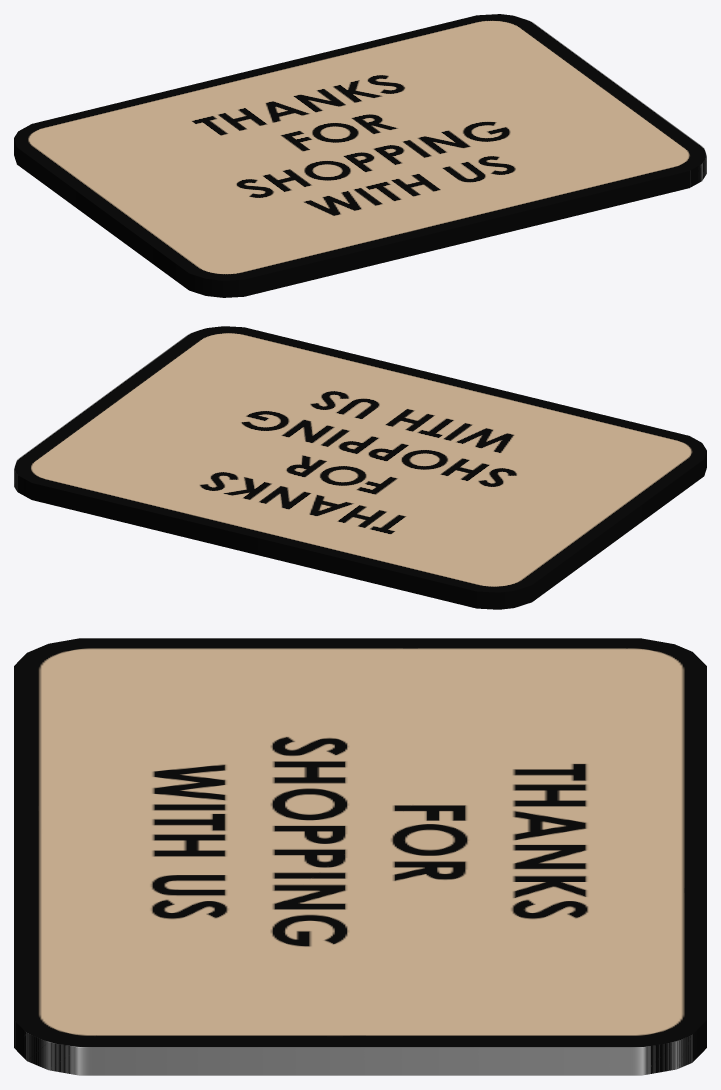
File: SM_sign_02.fbx
3 renders of one model, top to bottom at view 1: azimuth 30°, elevation 25°; view 2: azimuth 150°, elevation 25°; view 3: azimuth 270°, elevation 25°, orthographic. The views are drawn at different scales.
Visible parts, largest first — view 1: sign_02; view 2: sign_02; view 3: sign_02.
Boxes of the visible parts, <box> form: sign_02: <box>14,14,706,297</box>; sign_02: <box>14,326,706,609</box>; sign_02: <box>14,638,706,1075</box>.
Bounding box in the file's own units: 145 × 4.62 × 104.
Materials: 1 (1 with a texture image).
